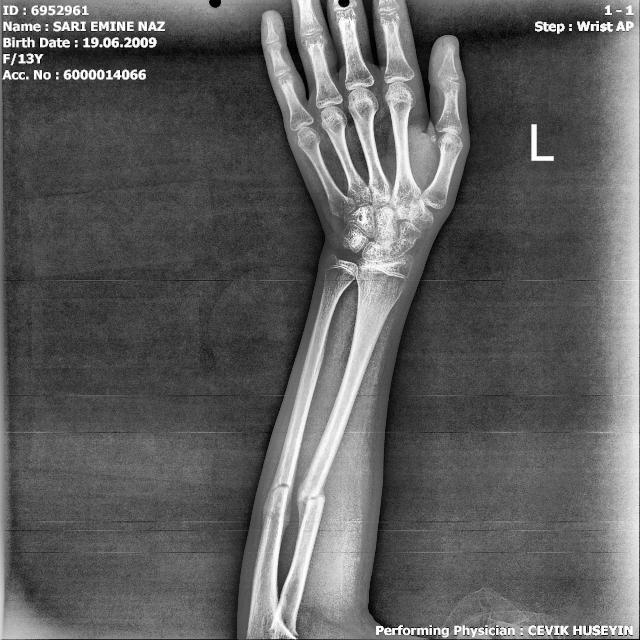Fracture: (300, 479, 327, 533), (264, 474, 295, 519)
